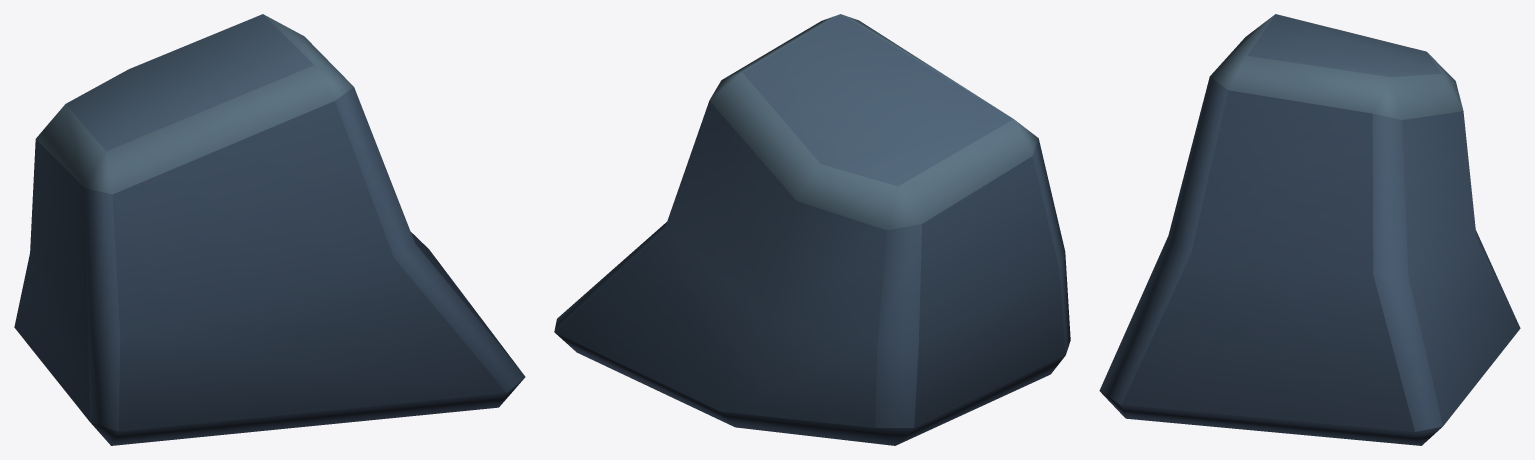
Rendered from rock_07.fbx.
The picture shows the model from 3 angles, left to right: view 1: azimuth 30°, elevation 25°; view 2: azimuth 150°, elevation 25°; view 3: azimuth 270°, elevation 25°; orthographic projection. The views are drawn at different scales.
Parts seen in each view (by area): view 1: rock_07; view 2: rock_07; view 3: rock_07.
Boxes of the visible parts, box(x1,y1,x2,y2) form: rock_07: box(14, 14, 525, 445); rock_07: box(554, 14, 1070, 445); rock_07: box(1099, 14, 1520, 445).
Bounding box in the file's own units: 69.99 × 50.35 × 62.55.
Materials: 1 (1 with a texture image).
